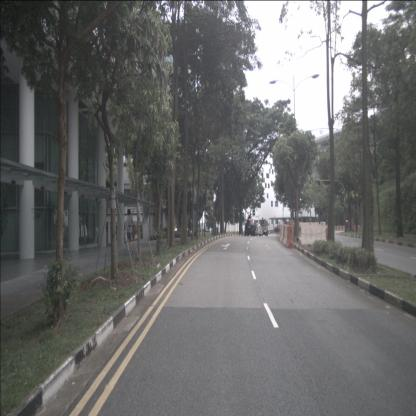barrier: (299, 220, 326, 246), (285, 227, 294, 249), (282, 225, 288, 246), (281, 224, 285, 243)
